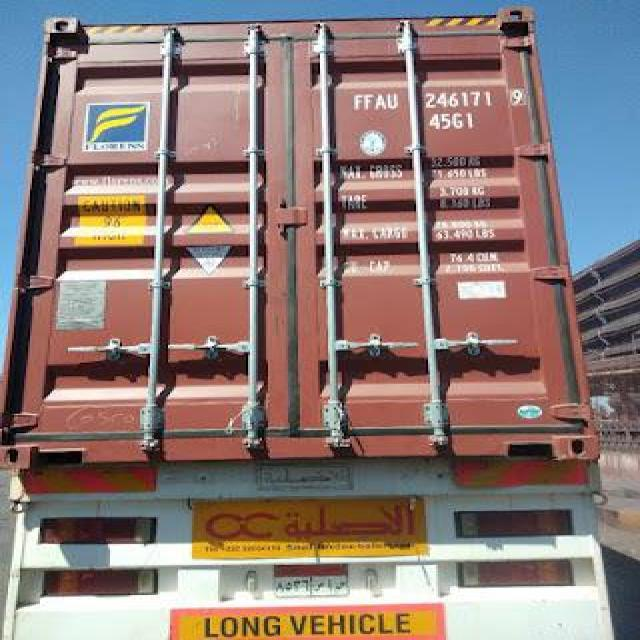ISO: (427, 114, 475, 131)
container_number: (208, 613, 401, 636), (358, 88, 520, 111)
